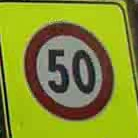limite 50: (21, 20, 116, 120)
